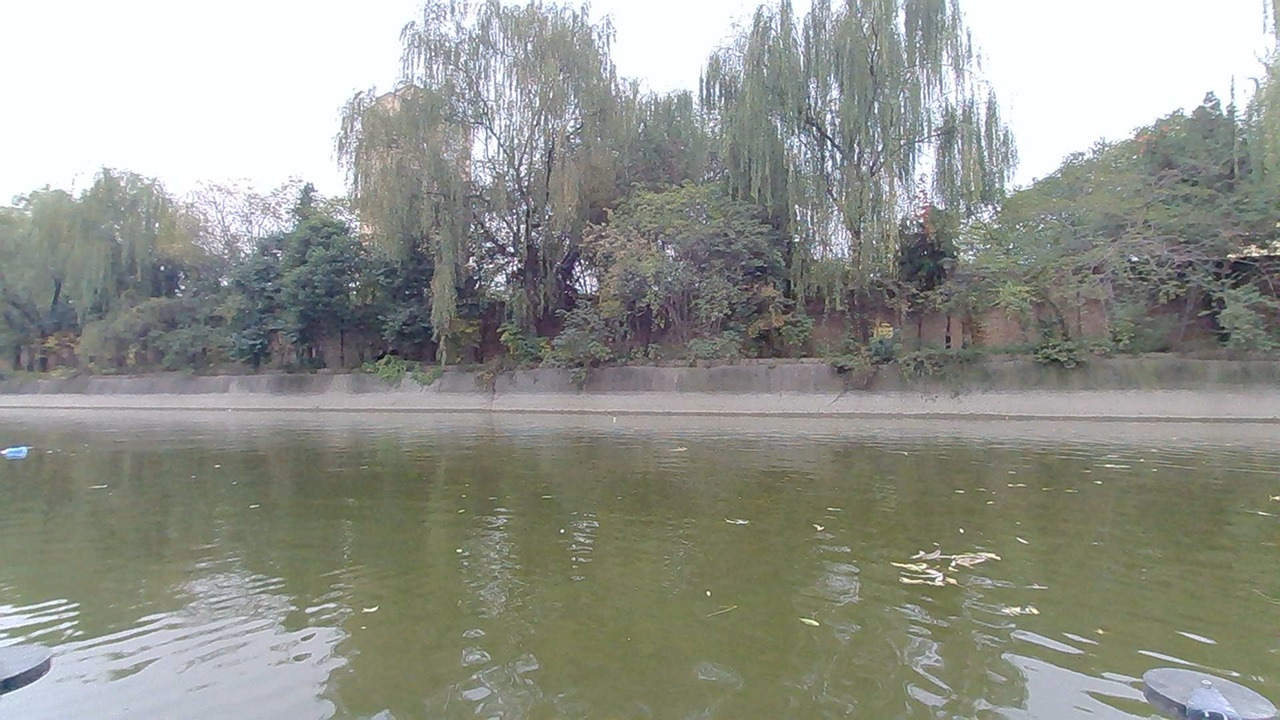bottle: (3, 442, 36, 466)
